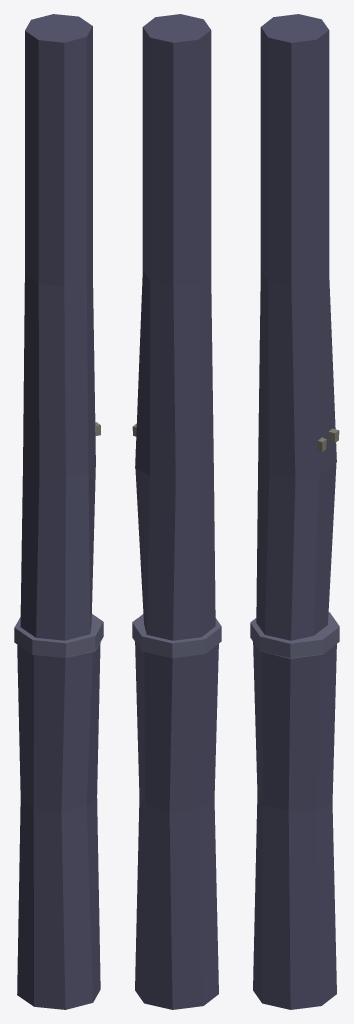
File: pillar2.fbx
3 renders of one model, left to right at view 1: azimuth 30°, elevation 25°; view 2: azimuth 150°, elevation 25°; view 3: azimuth 330°, elevation 25°, orthographic.
Parts seen in each view (by area): view 1: Cube; view 2: Cube; view 3: Cube.
Boxes of the visible parts, x1,y1,x2,y2 form: Cube: [14, 14, 103, 1009]; Cube: [132, 14, 221, 1009]; Cube: [250, 14, 339, 1009].
Size of the model in its own units: 65.02 by 822 by 65.02.
